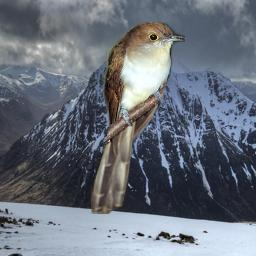Cuckoo: (91, 20, 185, 214)
